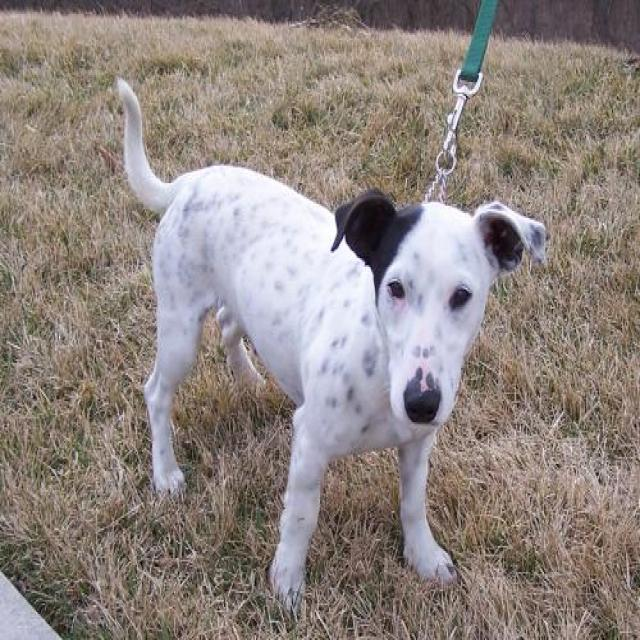Dogs: (113, 75, 549, 616)
